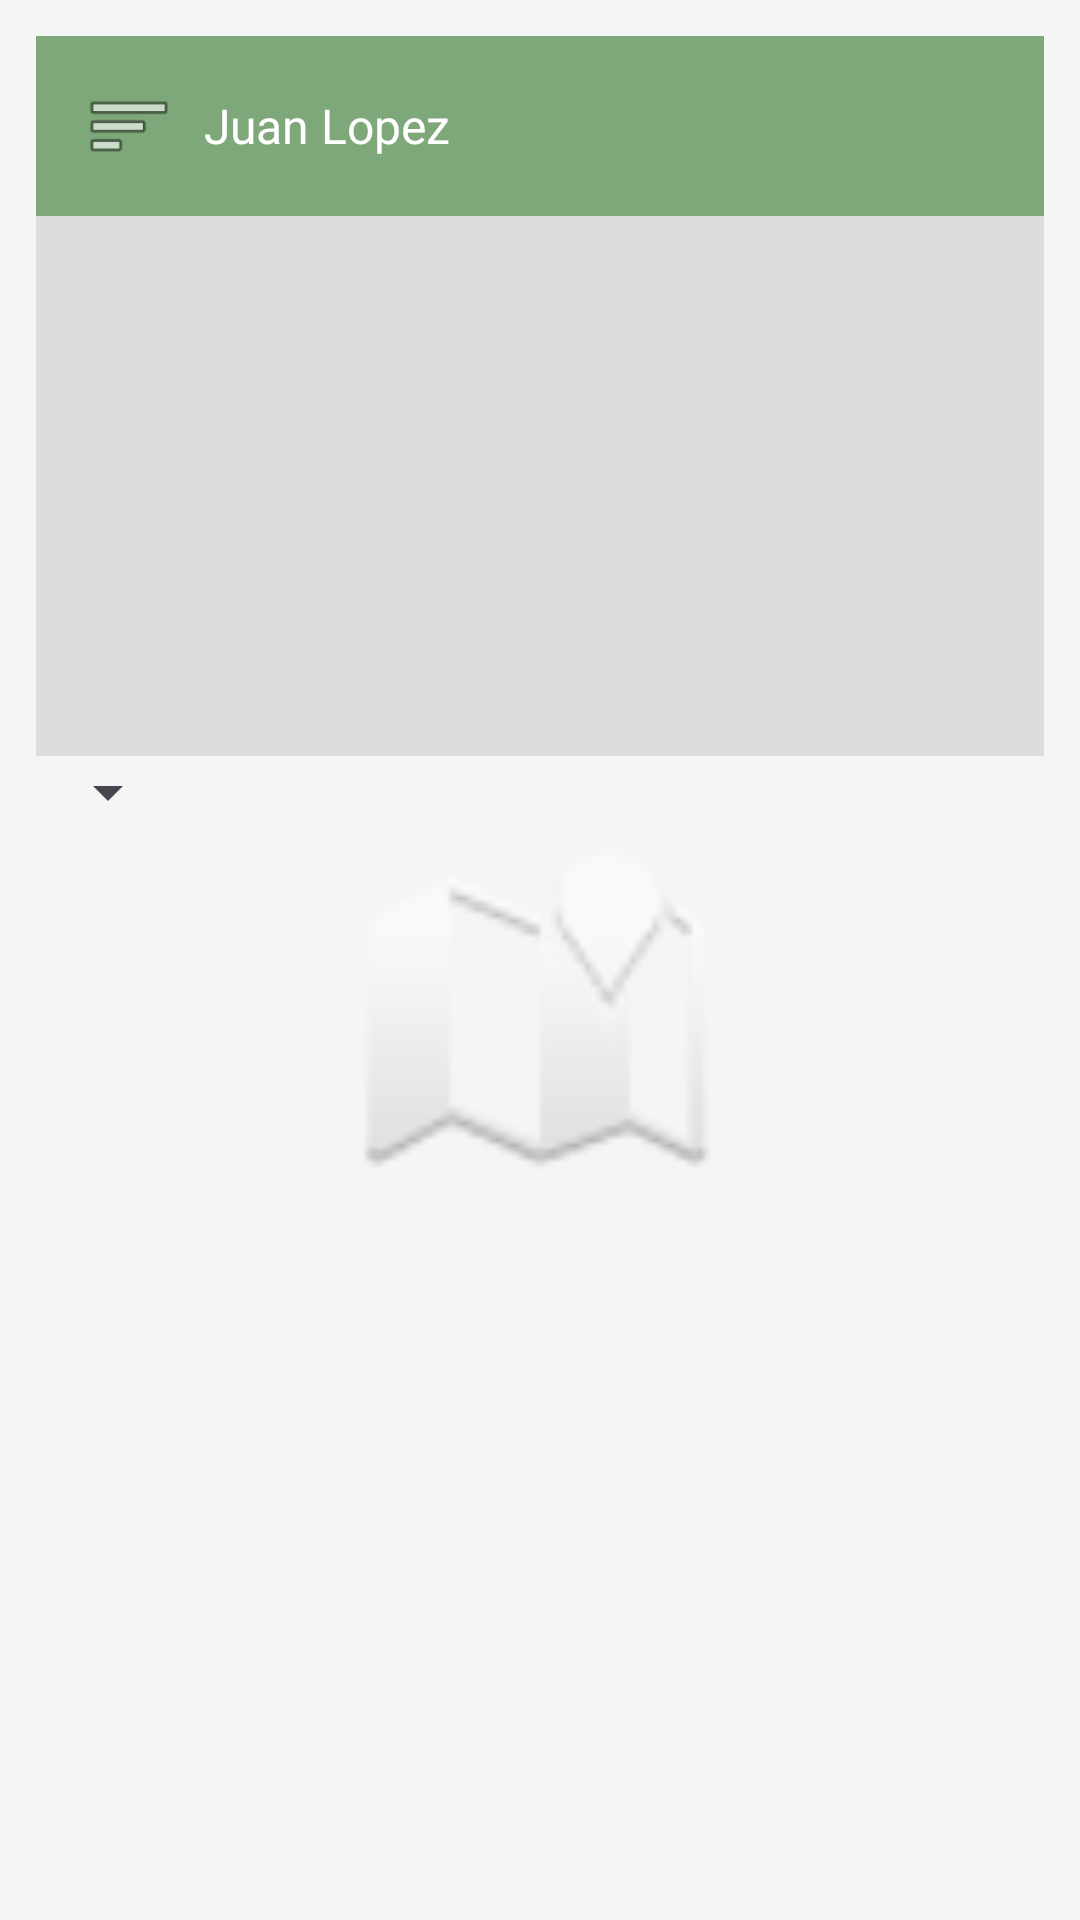

Where icons sit on this 1080 × 1920 app screen, as (x1, y1, x2, y2):
map: (367, 893, 705, 1164)
sort by size: (90, 101, 168, 152)
